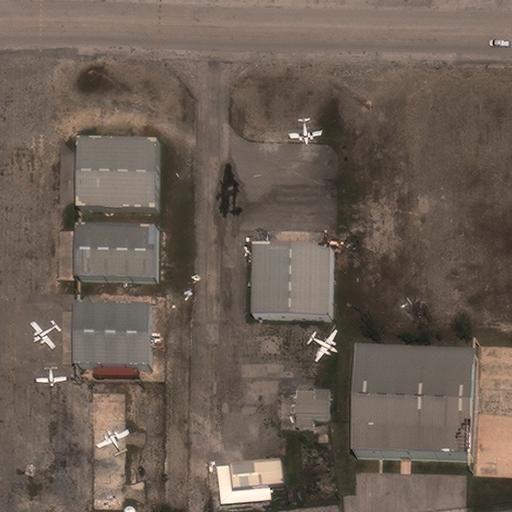Small Civil Transport: (309, 331, 338, 362), (289, 117, 321, 144), (96, 429, 127, 454), (30, 324, 57, 349), (36, 366, 67, 387)
